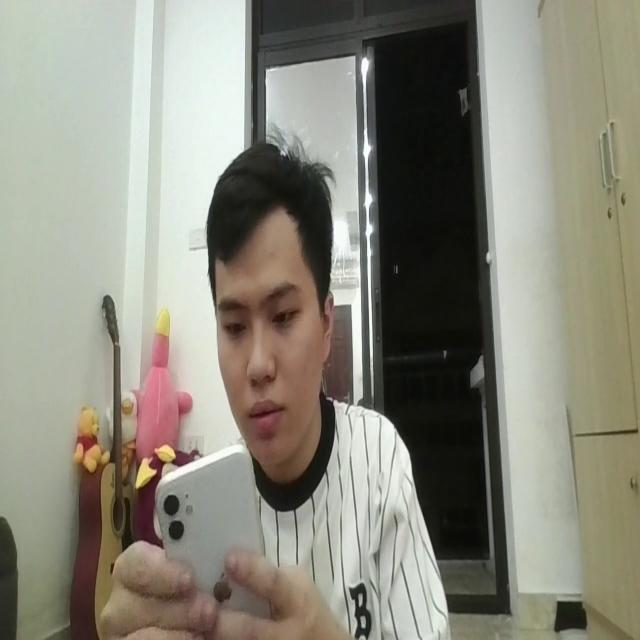phone: (155, 442, 271, 640)
student: (94, 133, 450, 640)
